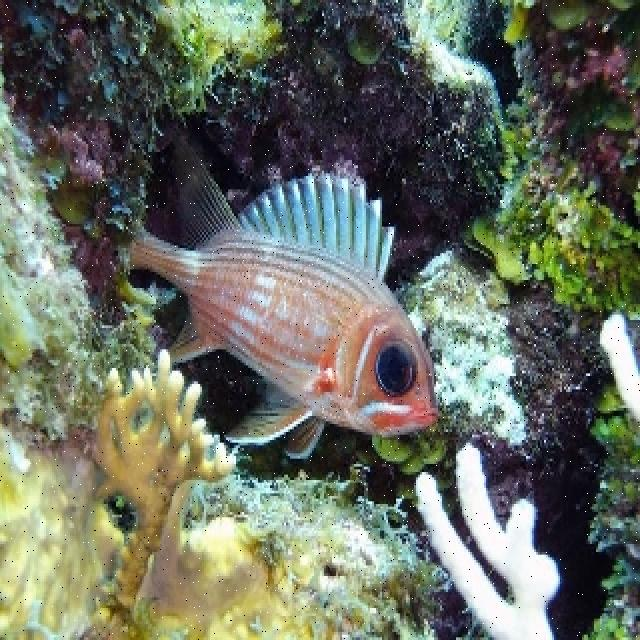aquatic plants: (475, 161, 638, 323), (159, 1, 289, 114), (582, 387, 638, 637)
fish: (131, 168, 437, 460), (45, 165, 98, 228)
reefs: (90, 347, 236, 612), (415, 443, 562, 637), (599, 317, 638, 421)
